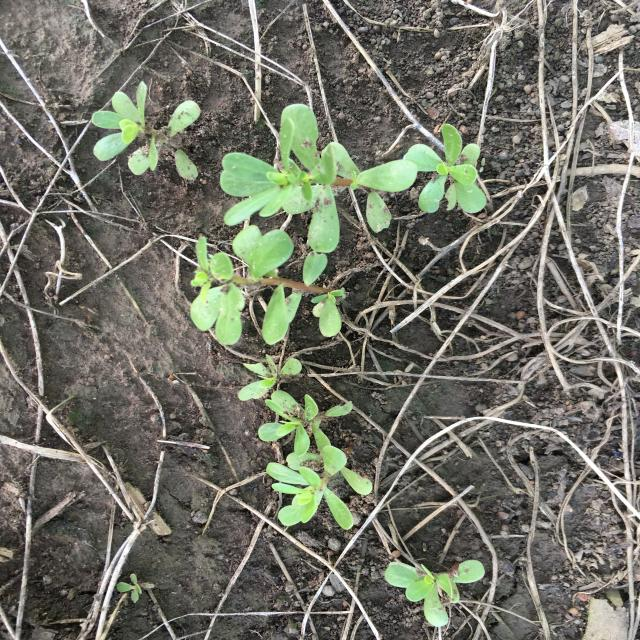Purslane: (220, 104, 418, 253), (190, 225, 346, 345), (92, 80, 200, 180), (266, 445, 372, 530), (402, 123, 487, 213), (385, 560, 485, 627), (258, 390, 354, 457), (238, 354, 302, 401)
